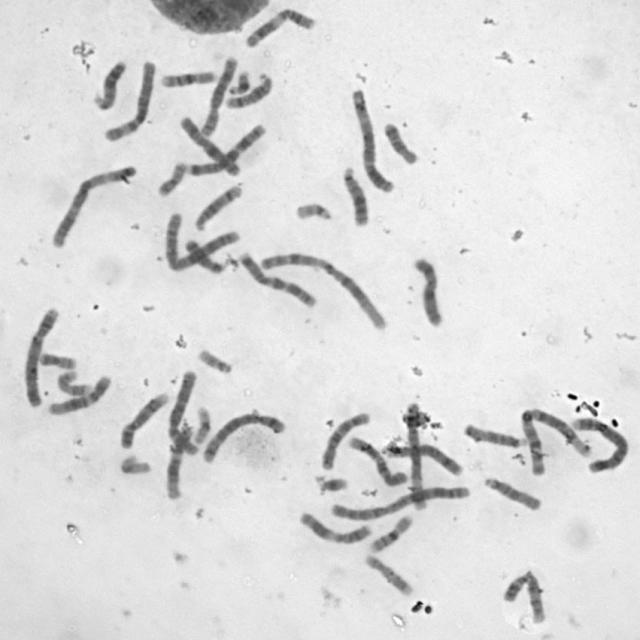A1: (254, 248, 391, 332), (516, 402, 594, 476)
A2: (326, 481, 474, 521), (160, 208, 237, 274)
A3: (48, 160, 140, 250), (347, 84, 397, 195)
B4: (19, 303, 62, 408), (568, 414, 631, 474)
B5: (198, 408, 288, 464), (401, 399, 429, 512)
C10: (318, 408, 373, 470), (346, 435, 405, 489)
C11: (241, 3, 319, 49), (296, 507, 374, 546)
C12: (44, 371, 113, 416), (161, 420, 195, 502)
C6: (100, 55, 158, 143), (163, 366, 201, 458)
C7: (234, 247, 320, 309), (183, 120, 269, 178)
C8: (196, 51, 240, 138), (379, 439, 466, 477)
C9: (117, 388, 172, 450), (502, 569, 539, 618)
D13: (338, 162, 372, 228), (90, 56, 128, 111)
D14: (190, 180, 245, 232), (221, 68, 275, 110)
D15: (480, 472, 544, 512), (459, 419, 528, 449)
E16: (365, 510, 415, 554), (157, 66, 219, 89)
E17: (360, 551, 415, 598), (54, 367, 92, 398)
E18: (379, 117, 420, 166), (182, 235, 226, 275)
F19: (190, 402, 213, 446), (116, 452, 154, 476)
F20: (153, 157, 189, 198), (36, 348, 78, 370)
G21: (312, 471, 351, 495), (224, 67, 252, 96)
G22: (194, 345, 235, 374), (291, 198, 335, 222)
X: (176, 112, 243, 178), (408, 251, 447, 328)
